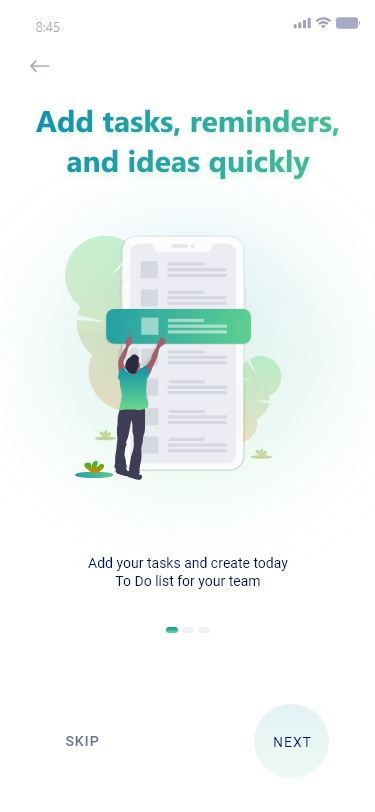Icon: (30, 60, 51, 74)
Image: (65, 233, 283, 481)
PageIndicator: (165, 625, 212, 634)
Text: (36, 109, 339, 181), (88, 556, 289, 590), (66, 734, 100, 747)
TextButton: (254, 703, 330, 778)
UpperTaskBar: (36, 17, 361, 34)
